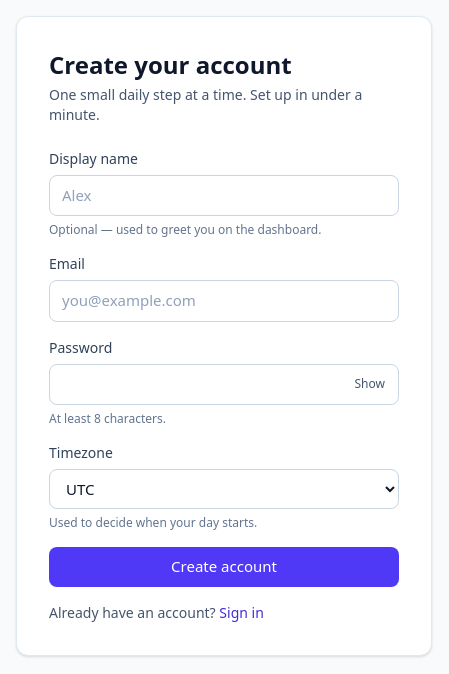
it: SignUp validation › maps server fieldErrors to the matching inputs
The width and height of the screenshot is (449, 674).
Type "new@example.com" into the field labelled "Email" at (224, 301), box [49,280,399,322]
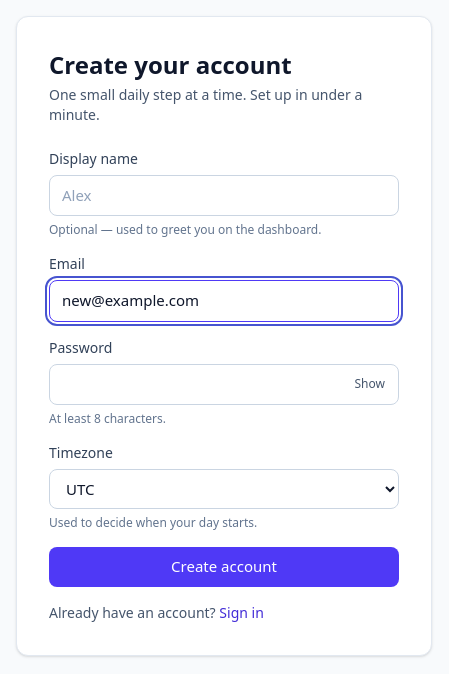
Type "12345678" into the password field labelled "Password" at (224, 384), box [49,364,399,405]
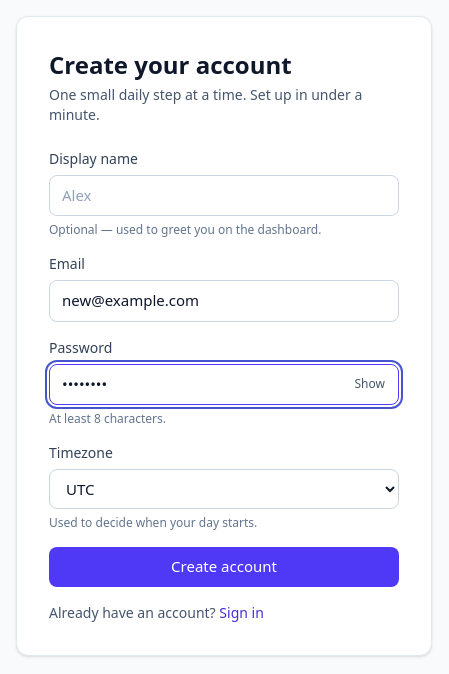
Click the button "Create account" at (224, 567), box [49,547,399,587]
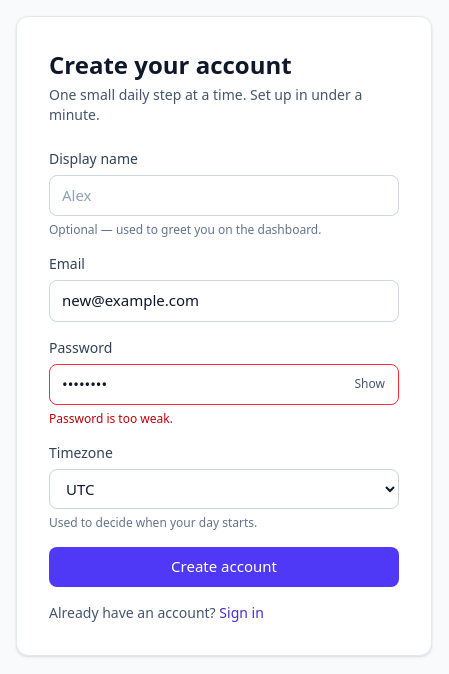
Result: the text "Password is too weak." is shown at [49,410,173,427]
